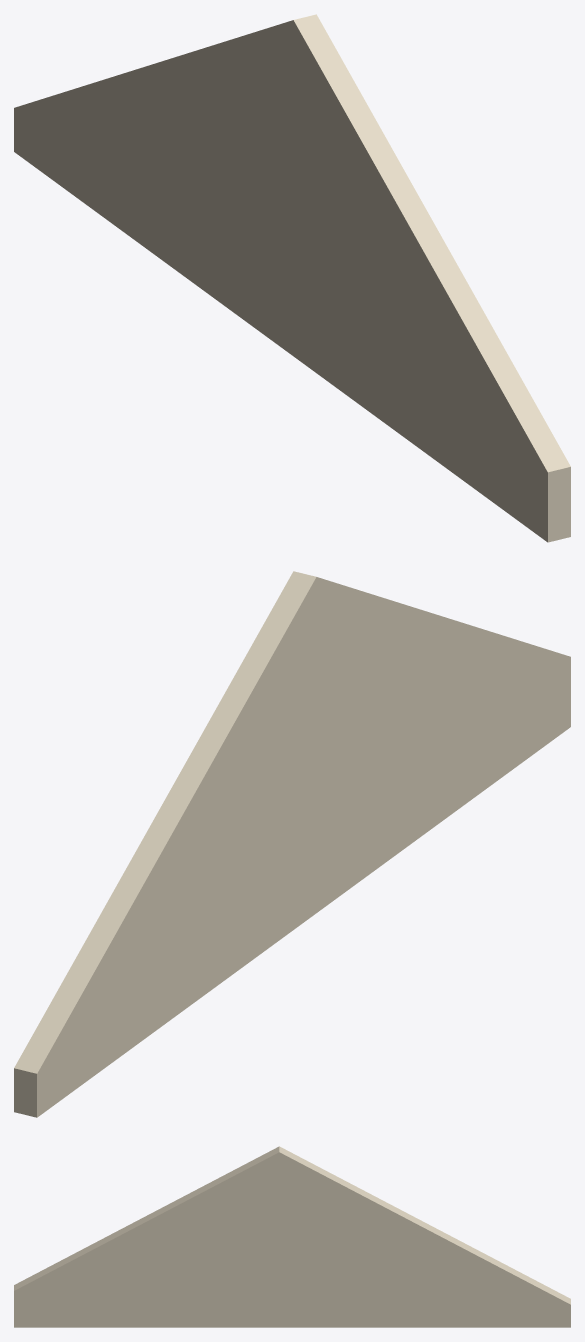
3 views of the same model, one above another, from view 1: azimuth 30°, elevation 25°; view 2: azimuth 150°, elevation 25°; view 3: azimuth 270°, elevation 25° (orthographic). The views are drawn at different scales.
Parts seen in each view (by area): view 1: B-ROOF-INFILL-02; view 2: B-ROOF-INFILL-02; view 3: B-ROOF-INFILL-02.
Boxes of the visible parts, x1,y1,x2,y2 form: B-ROOF-INFILL-02: [14, 14, 570, 542]; B-ROOF-INFILL-02: [14, 571, 570, 1117]; B-ROOF-INFILL-02: [14, 1146, 570, 1327].
Size of the model in its own units: 0.16 by 2.22 by 6.39.
